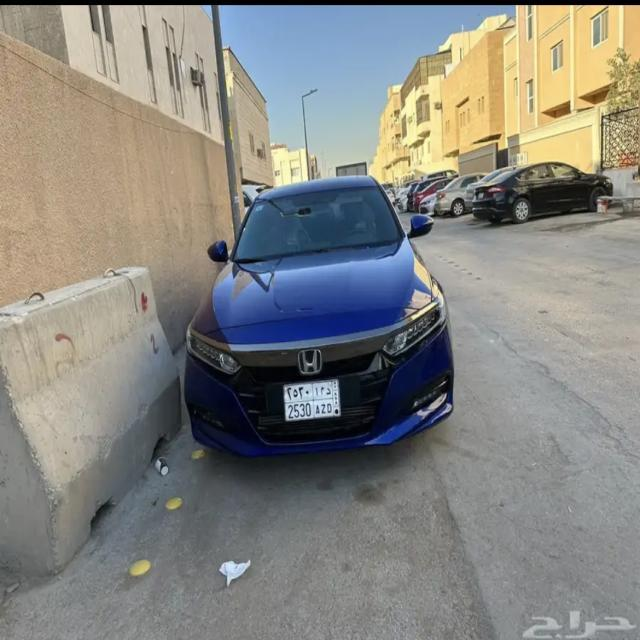license_plate: (285, 382, 341, 419)
